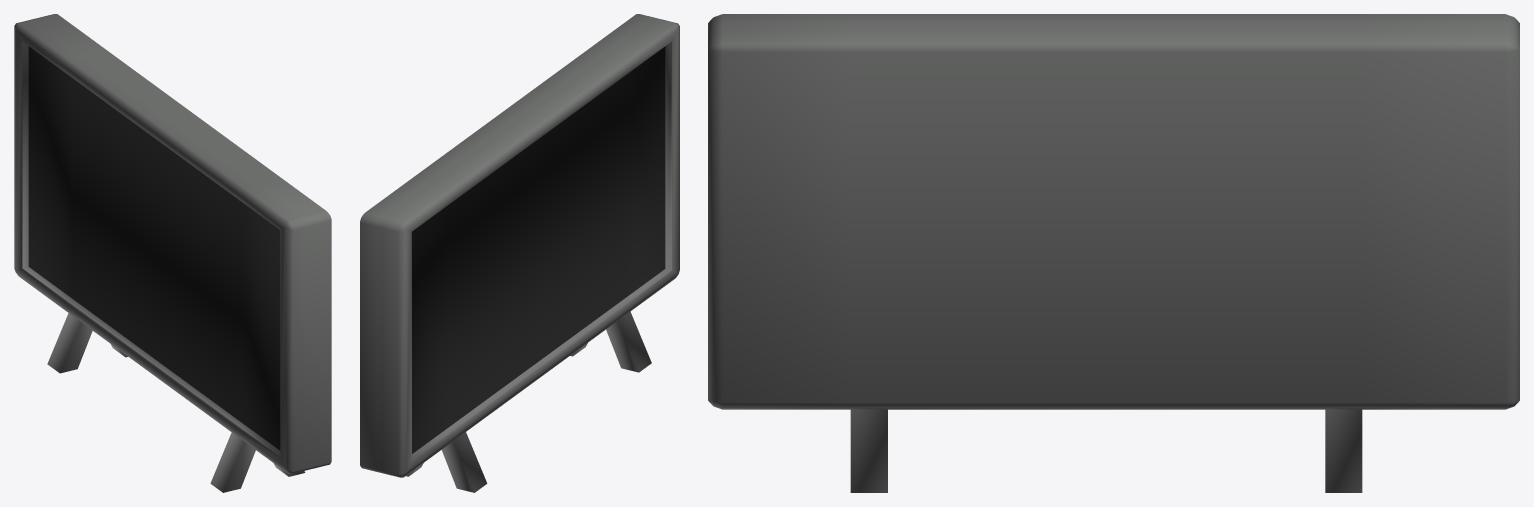
Rendered from Sala_TV_12.fbx.
The picture shows the model from 3 angles, left to right: view 1: azimuth 30°, elevation 25°; view 2: azimuth 150°, elevation 25°; view 3: azimuth 270°, elevation 25°; orthographic projection. The views are drawn at different scales.
Parts seen in each view (by area): view 1: tv_plasma; view 2: tv_plasma; view 3: tv_plasma.
Part boxes in pixels (left/top/right/bottom): tv_plasma: left=14, top=14, right=331, bottom=492; tv_plasma: left=360, top=14, right=679, bottom=492; tv_plasma: left=708, top=14, right=1519, bottom=492.
Size of the model in its own units: 38.98 by 136 by 229.
2 materials, 2 textured.
